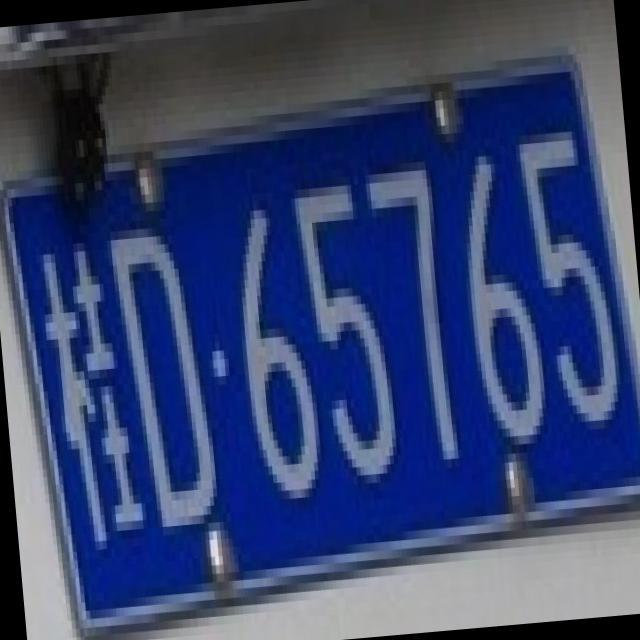5: (496, 94, 626, 426), (271, 148, 398, 480)
6: (204, 163, 332, 503), (430, 118, 552, 450)
7: (346, 133, 474, 465)
D: (26, 186, 170, 536), (92, 198, 222, 522)
